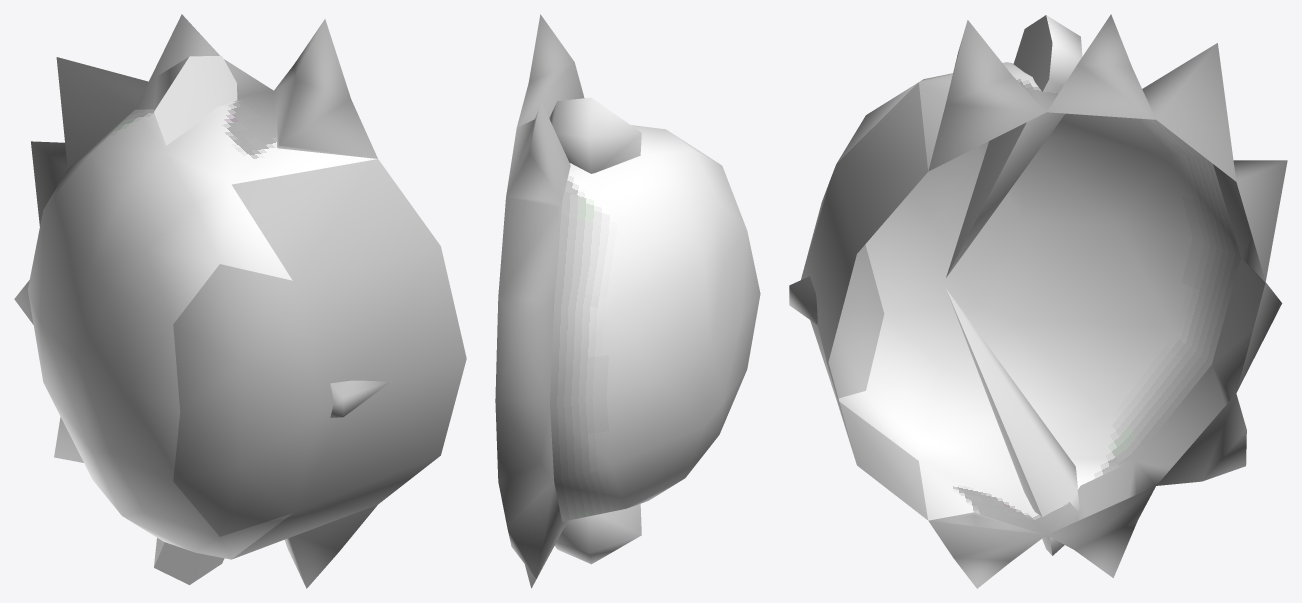
Rendered from boy_msd_b.dae.
3 renders of one model, left to right at view 1: azimuth 30°, elevation 25°; view 2: azimuth 150°, elevation 25°; view 3: azimuth 270°, elevation 25°, orthographic. The views are drawn at different scales.
Parts seen in each view (by area): view 1: vsn_mesh_0_, vsn_mesh_1_, vsn_mesh_2_; view 2: vsn_mesh_0_; view 3: vsn_mesh_0_, vsn_mesh_1_, vsn_mesh_2_.
Part boxes in pixels (left/top/right/bottom): vsn_mesh_0_: left=14, top=14, right=377, bottom=588; vsn_mesh_1_: left=232, top=159, right=466, bottom=559; vsn_mesh_2_: left=173, top=264, right=320, bottom=536; vsn_mesh_0_: left=495, top=14, right=760, bottom=588; vsn_mesh_0_: left=836, top=14, right=1287, bottom=588; vsn_mesh_1_: left=789, top=82, right=928, bottom=519; vsn_mesh_2_: left=801, top=166, right=884, bottom=398.
Bounding box in the file's own units: 15.5 × 29.46 × 22.59.
